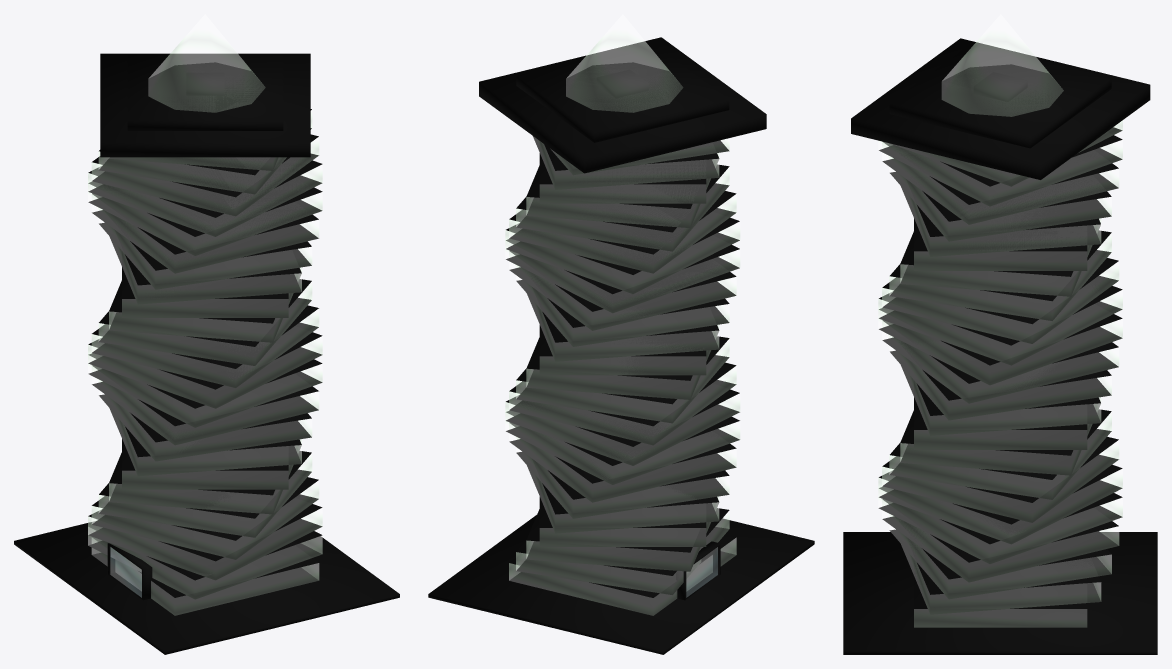
The model's file is building3.glb.
The picture shows the model from 3 angles, left to right: view 1: azimuth 30°, elevation 25°; view 2: azimuth 150°, elevation 25°; view 3: azimuth 270°, elevation 25°; orthographic projection. The views are drawn at different scales.
Visible parts, largest first — view 1: Rotated Building; view 2: Rotated Building; view 3: Rotated Building.
Boxes of the visible parts, <box> form: Rotated Building: <box>14,14,399,654</box>; Rotated Building: <box>428,14,814,654</box>; Rotated Building: <box>843,14,1157,654</box>.
Bounding box in the file's own units: 60.49 × 129 × 63.55.
